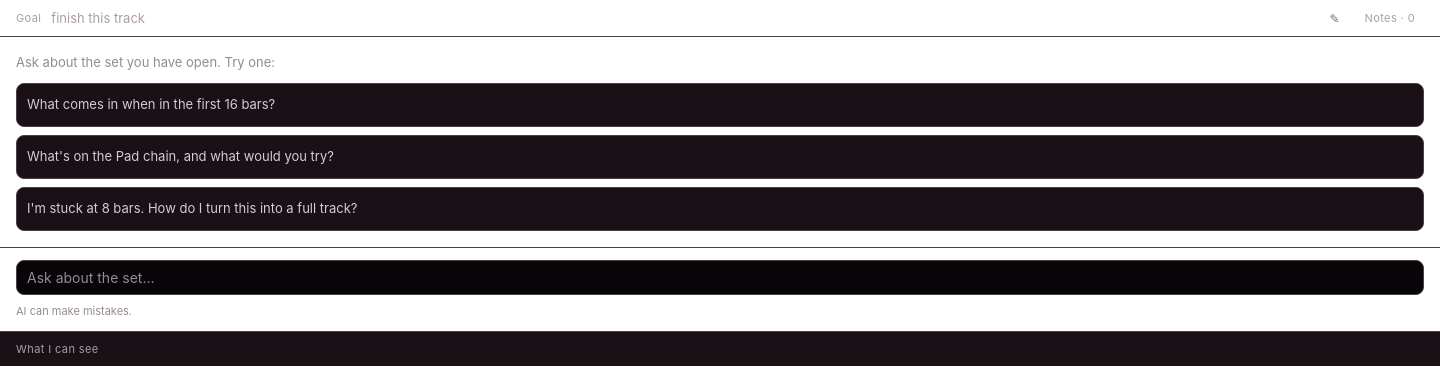
Test: lists what the model has read while the producer waits, and clears the list when the answer lands
The width and height of the screenshot is (1440, 383).
Later steps or results of the test are not shown.
In the field labelled "Ask about the set": (720, 277) [16,260,1424,294], type "How is the pad?"
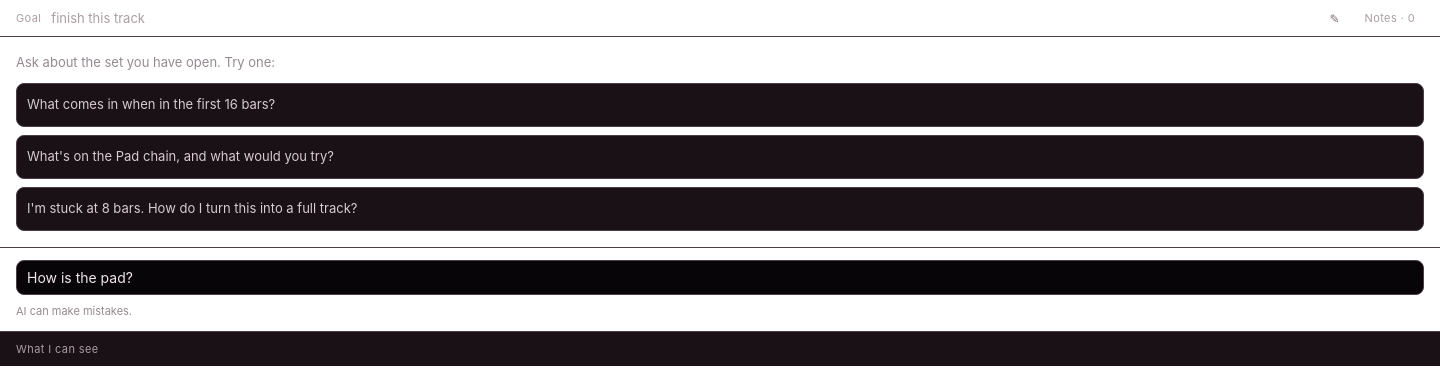
Press Enter in the field named "Ask about the set", box [16,260,1424,294]
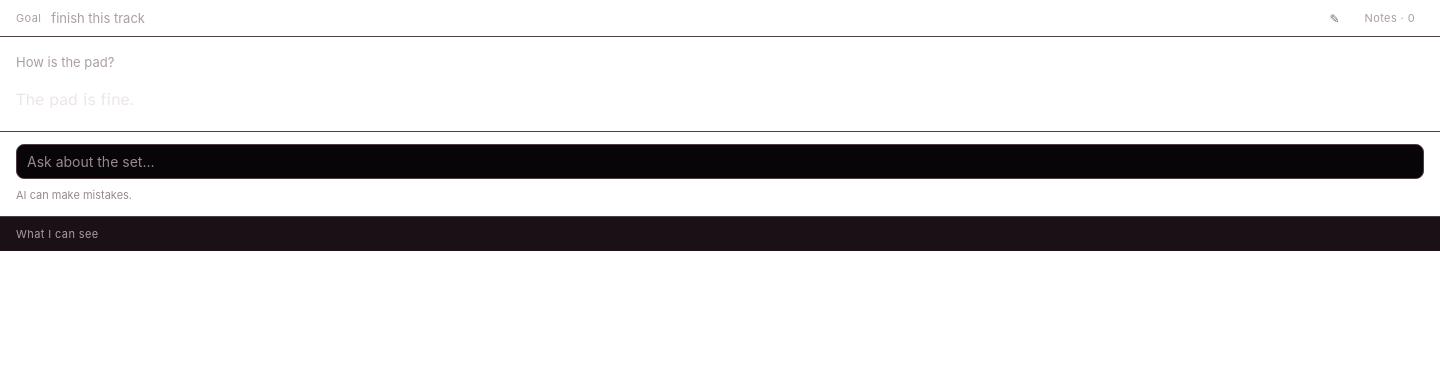
Check: the text "The pad is fine." is shown, box [16,88,133,110]
